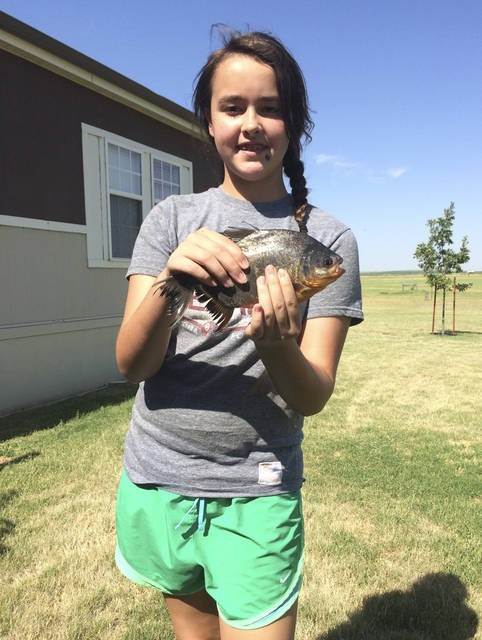face_no_mask: (199, 31, 304, 178)
